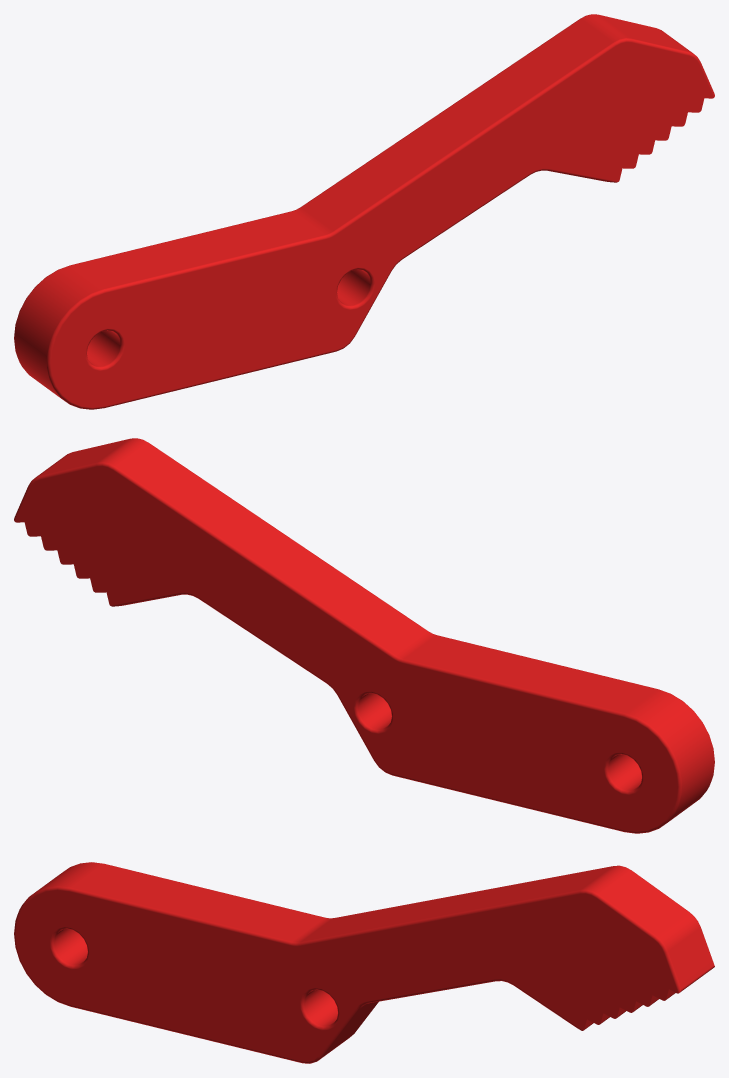
The model's file is Gripper.gltf.
3 views of the same model, one above another, from view 1: azimuth 30°, elevation 25°; view 2: azimuth 150°, elevation 25°; view 3: azimuth 330°, elevation 25° (orthographic).
Visible parts, largest first — view 1: Solid1; view 2: Solid1; view 3: Solid1.
Part boxes in pixels (left/top/right/bottom): Solid1: left=14, top=14, right=714, bottom=409; Solid1: left=14, top=438, right=714, bottom=833; Solid1: left=14, top=862, right=714, bottom=1063.
Bounding box in the file's own units: 0.0587 × 0.0204 × 0.0054.
